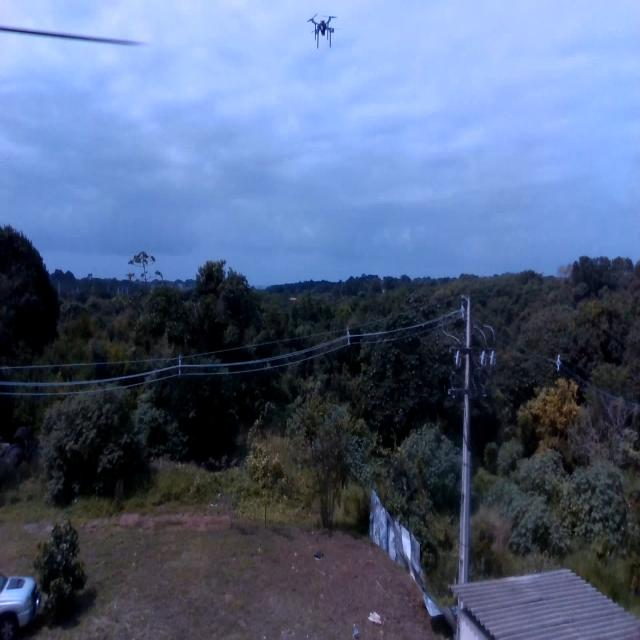-uav-: (302, 9, 346, 55)
